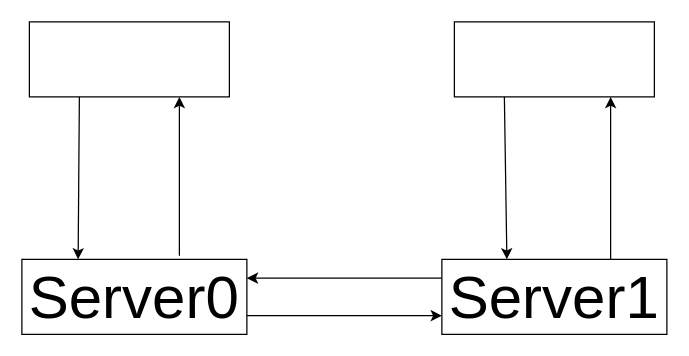
Some shapes in this 689 by 356 pixel diagram are drawn without their labels. Here are the shapes that lost their labels. From the top down, the centre of each, then its label:
(128,59): Client0
(553,59): Client1
